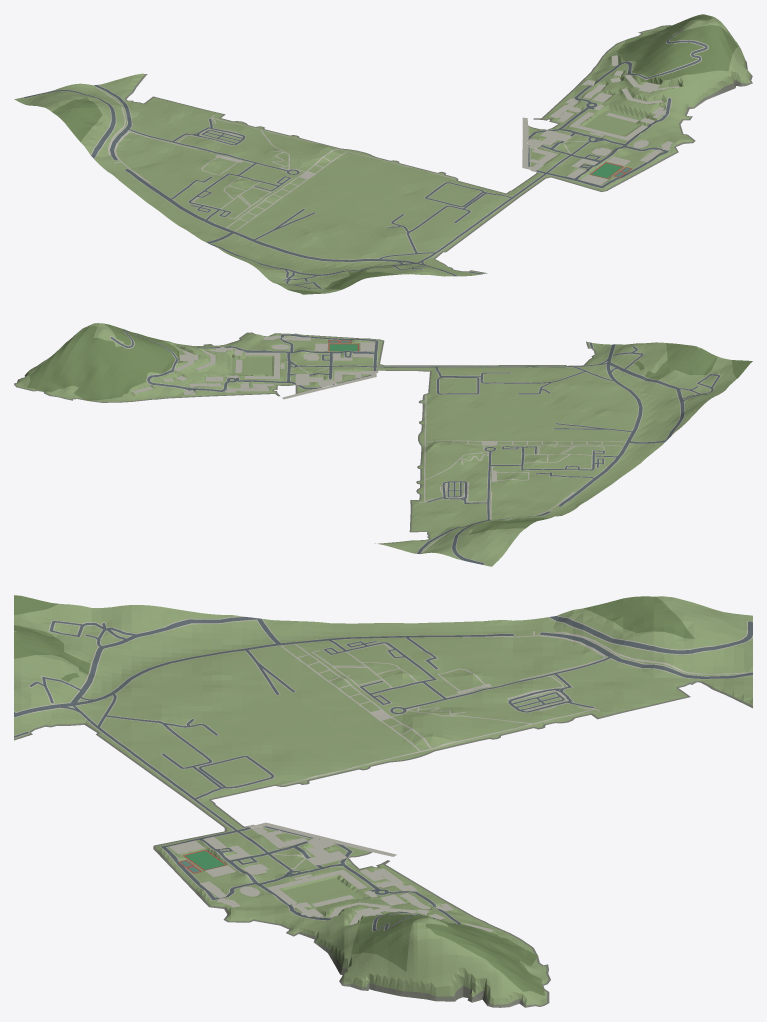
3 renders of one model, top to bottom at view 1: azimuth 30°, elevation 25°; view 2: azimuth 150°, elevation 25°; view 3: azimuth 270°, elevation 25°, orthographic. The views are drawn at different scales.
Visible parts, largest first — view 1: ground_context-open-ground, ground_open-ground, ground_context-walks, ground_context-roads, ground_forest, ground_roads, ground_context-forest, ground_walks, ground_shore, ground_context-shore, ground_maritime-lawn; view 2: ground_context-open-ground, ground_open-ground, ground_forest, ground_context-walks, ground_context-roads, ground_context-forest, ground_roads, ground_walks, ground_shore, ground_context-shore, ground_maritime-lawn; view 3: ground_context-open-ground, ground_open-ground, ground_context-walks, ground_context-roads, ground_forest, ground_context-forest, ground_shore, ground_roads, ground_walks, ground_context-shore, ground_maritime-lawn.
Part boxes in pixels (box(x1,y1,x2,y2)): ground_context-open-ground: box(14, 73, 522, 293); ground_open-ground: box(517, 16, 750, 192); ground_context-walks: box(23, 85, 522, 288); ground_context-roads: box(24, 85, 521, 288); ground_forest: box(616, 14, 737, 83); ground_roads: box(521, 28, 707, 191); ground_context-forest: box(52, 97, 397, 294); ground_walks: box(520, 27, 708, 191); ground_shore: box(516, 25, 752, 193); ground_context-shore: box(125, 74, 523, 273); ground_maritime-lawn: box(584, 116, 639, 135); ground_context-open-ground: box(377, 342, 736, 566); ground_open-ground: box(15, 323, 420, 401); ground_forest: box(27, 323, 183, 400); ground_context-walks: box(416, 342, 721, 564); ground_context-roads: box(417, 342, 720, 564); ground_context-forest: box(468, 343, 752, 534); ground_roads: box(110, 330, 419, 391); ground_walks: box(110, 329, 420, 392); ground_shore: box(14, 332, 421, 402); ground_context-shore: box(388, 341, 596, 542); ground_maritime-lawn: box(246, 355, 272, 375); ground_context-open-ground: box(14, 596, 752, 808); ground_open-ground: box(155, 808, 548, 1005); ground_context-walks: box(14, 615, 752, 807); ground_context-roads: box(14, 616, 752, 807); ground_forest: box(351, 911, 544, 995); ground_context-forest: box(14, 595, 694, 681); ground_shore: box(153, 808, 550, 1007); ground_roads: box(161, 808, 461, 931); ground_walks: box(159, 808, 461, 931); ground_context-shore: box(14, 681, 752, 808); ground_maritime-lawn: box(282, 877, 353, 903).
Bounding box in the file's own units: 1985 × 132 × 1620.
Materials: 9 (2 with a texture image).
